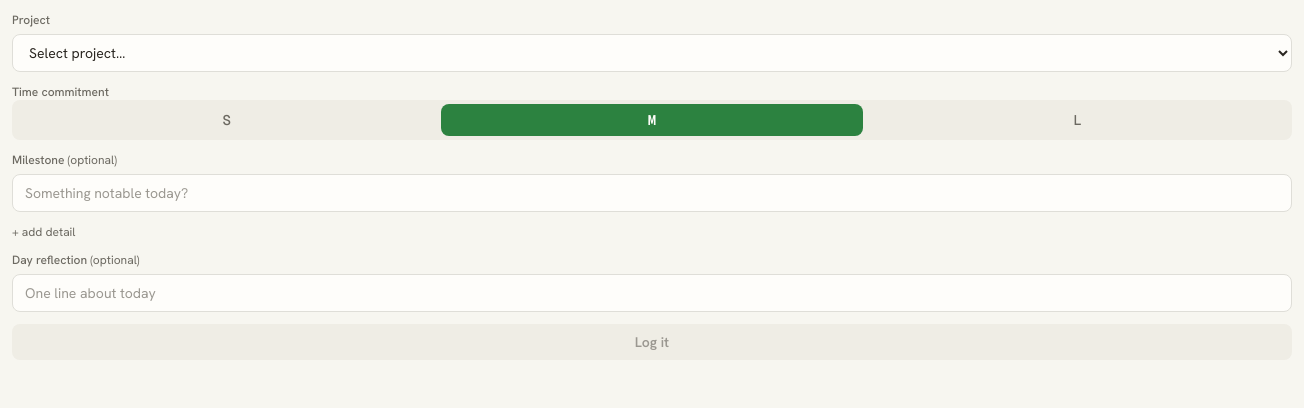
Scenario: quick add › initializes with Medium pre-selected, switchable, and resets to it after a submit
Select "Work" in the dropdown labelled "Project": (652, 53) [12,34,1292,72]
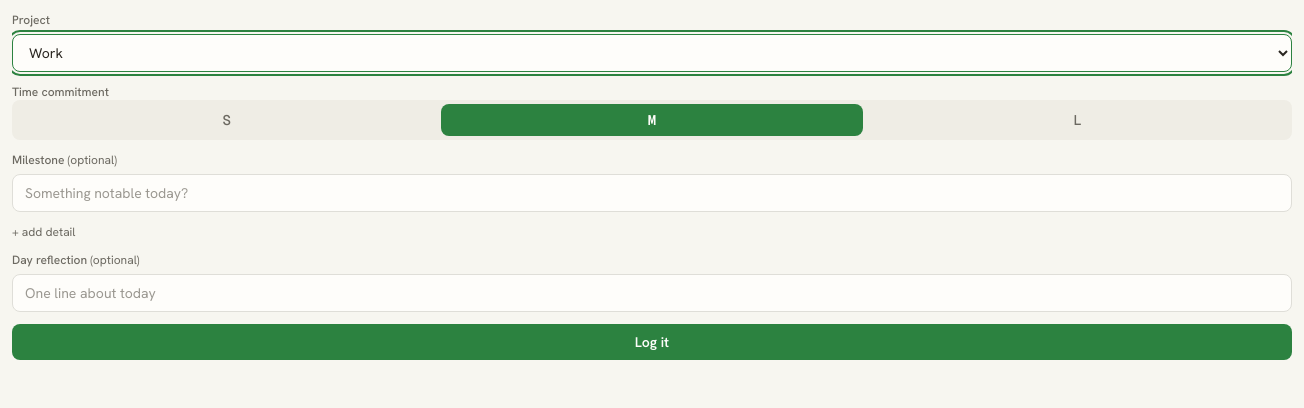
Click the button named "Large": (1077, 120) [867,104,1288,136]
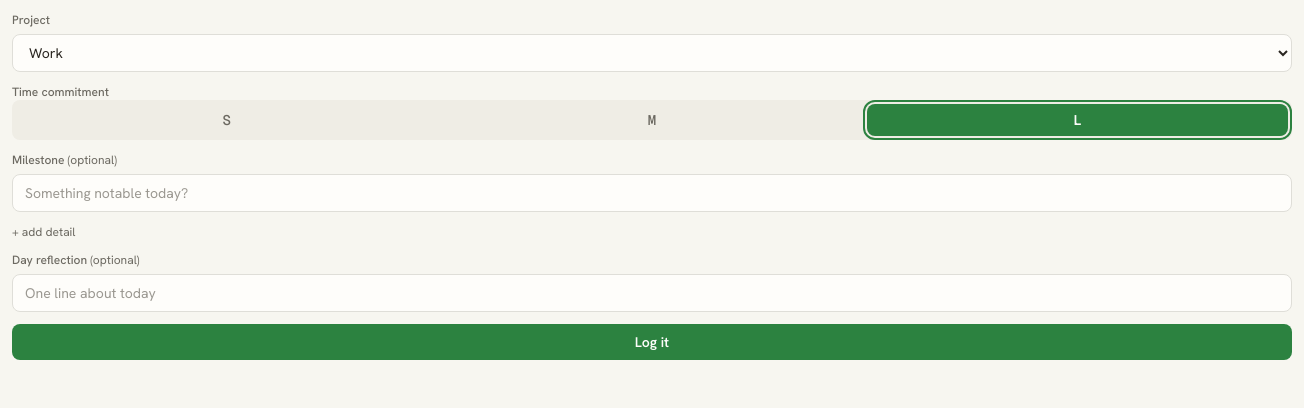
Result: the button named "Large" is pressed at [867,104,1288,136]
Result: the button named "Medium" is not pressed at [441,104,863,136]
Click the button "Log it": (652, 342) [12,324,1292,360]
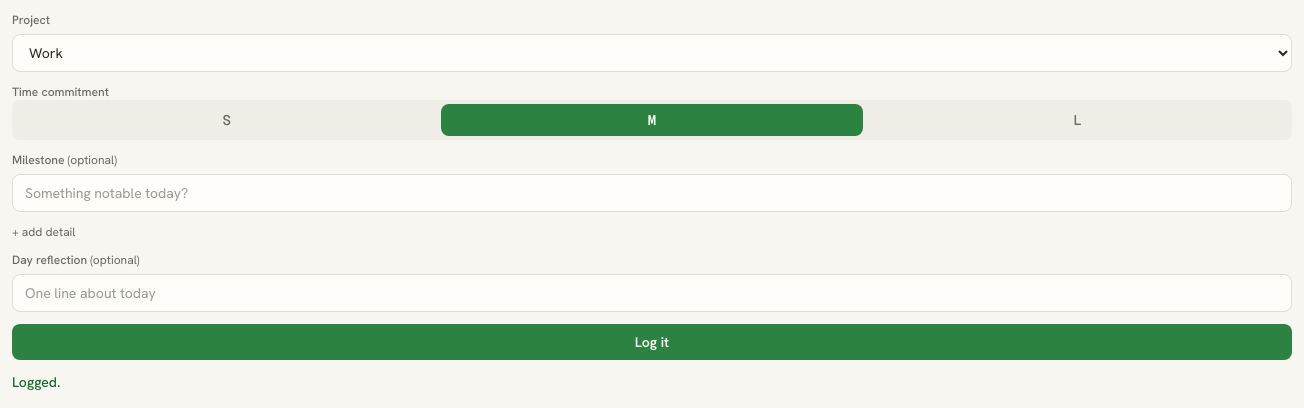
Result: the text "Logged." is shown at [12,373,60,391]
